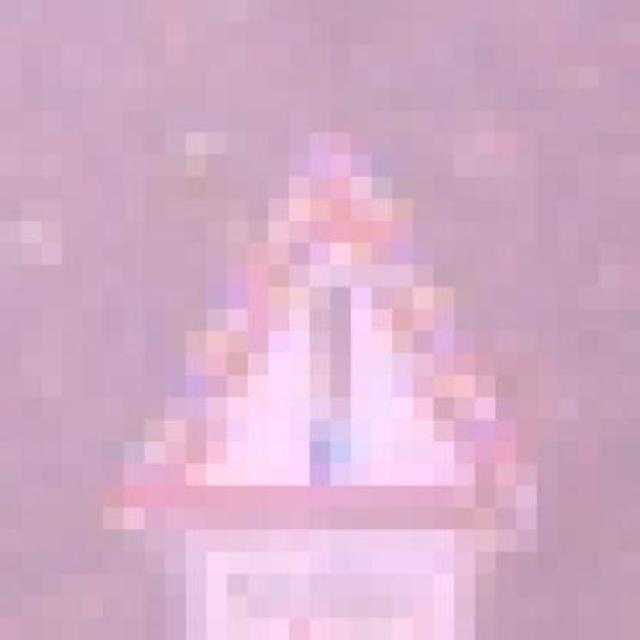Attention Please-: (109, 158, 543, 554)
